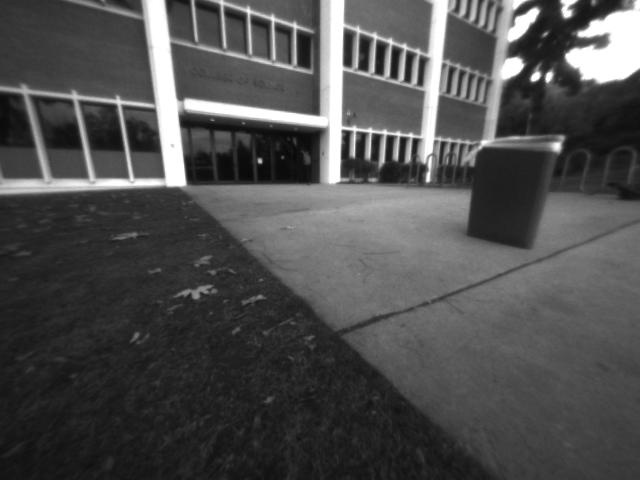trashcan: (458, 126, 569, 253)
